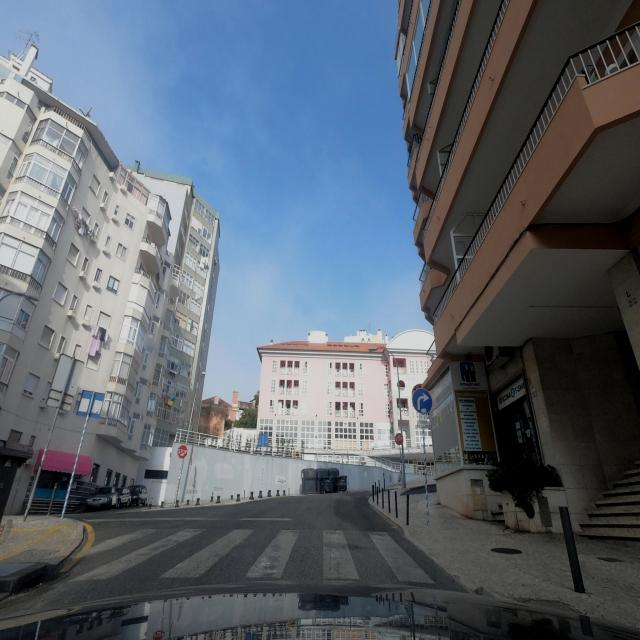car: (84, 485, 120, 511), (127, 483, 149, 507), (117, 485, 131, 508)
